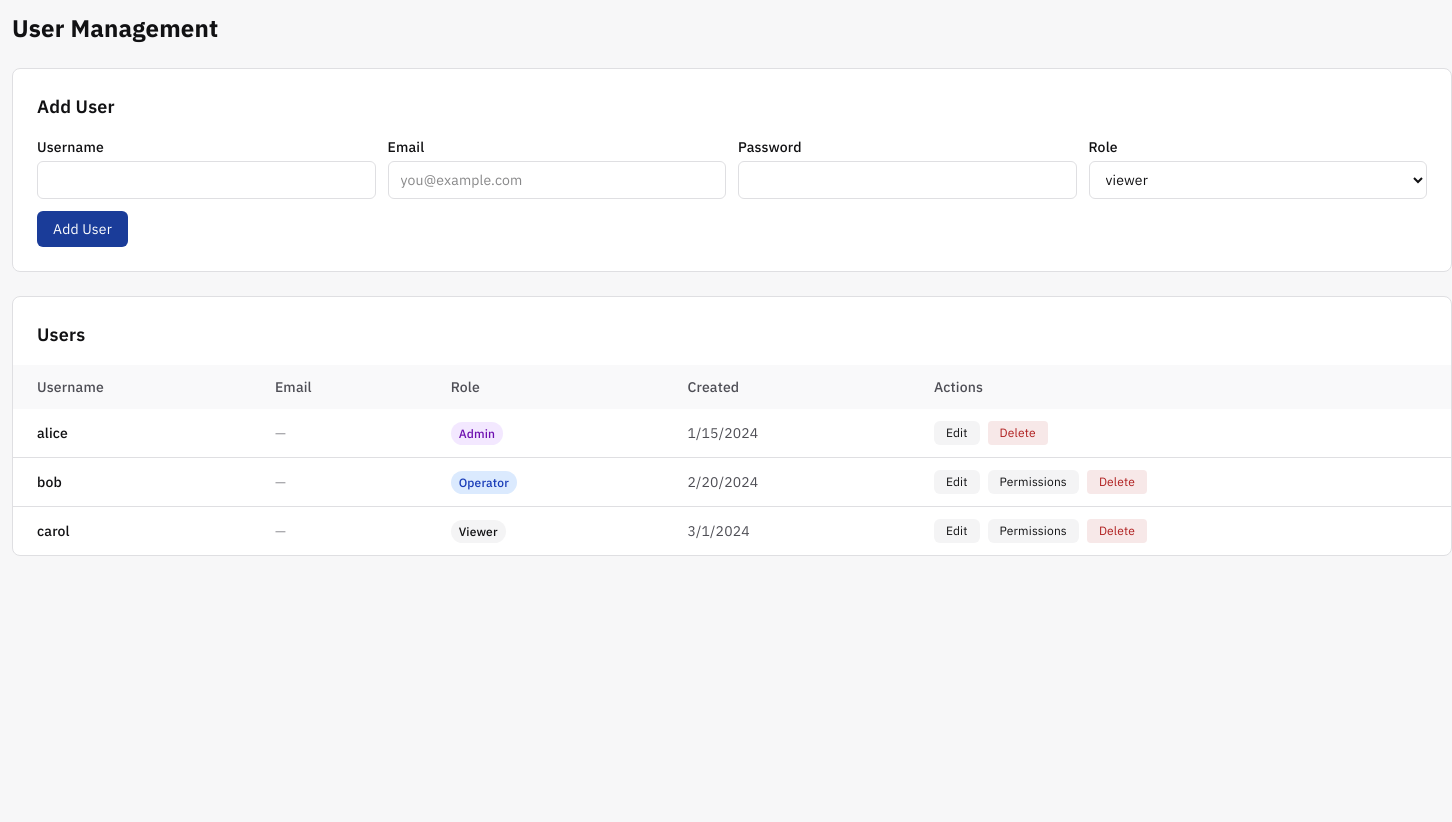
Users › should show edit controls when edit button is clicked
Expected: the text "alice" is shown, [13, 409, 251, 458]
What coordinates should you click on to do the following:
click the button "Edit" in the row of "alice"
I would click on:
 (957, 433)
Its box is [934, 421, 980, 445].
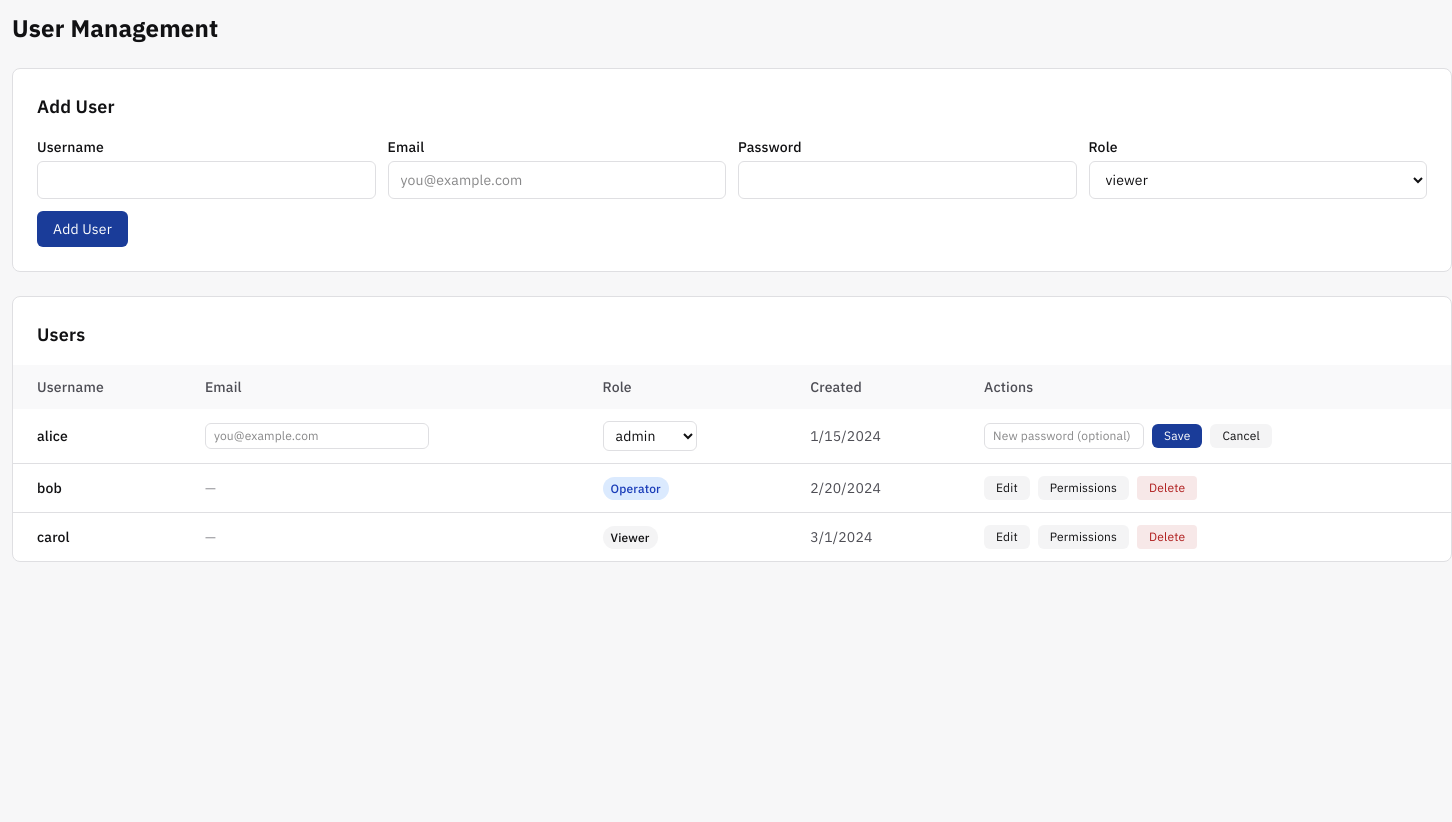
Result: the button "Save" is shown at [1152, 424, 1202, 448]
Result: the button "Cancel" is shown at [1210, 424, 1272, 448]
